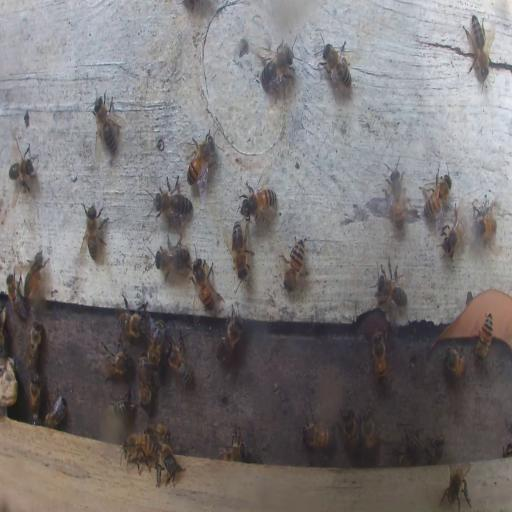bee: (315, 36, 354, 100), (257, 42, 297, 99), (420, 160, 453, 225), (150, 174, 192, 223), (79, 197, 109, 263), (464, 13, 492, 82), (185, 131, 215, 195), (374, 261, 408, 314), (93, 89, 121, 152), (440, 461, 473, 511), (214, 311, 244, 365), (228, 219, 254, 281), (9, 144, 37, 200), (165, 335, 194, 389), (192, 258, 222, 310), (388, 164, 410, 233), (155, 238, 190, 280), (440, 203, 465, 261), (240, 183, 276, 222), (282, 236, 305, 292), (120, 432, 152, 471), (6, 270, 28, 320), (25, 250, 46, 302), (156, 445, 180, 489), (102, 343, 132, 378), (109, 384, 138, 418), (117, 307, 146, 339), (474, 199, 497, 239), (475, 313, 494, 361), (302, 422, 334, 450), (146, 317, 164, 366), (341, 408, 359, 456), (361, 406, 379, 453), (43, 392, 66, 428), (372, 329, 387, 384), (25, 321, 42, 369), (443, 344, 467, 377), (400, 430, 422, 464), (138, 358, 152, 408), (425, 431, 446, 463), (144, 423, 172, 446), (29, 372, 42, 420), (217, 441, 243, 460), (0, 300, 9, 345)
